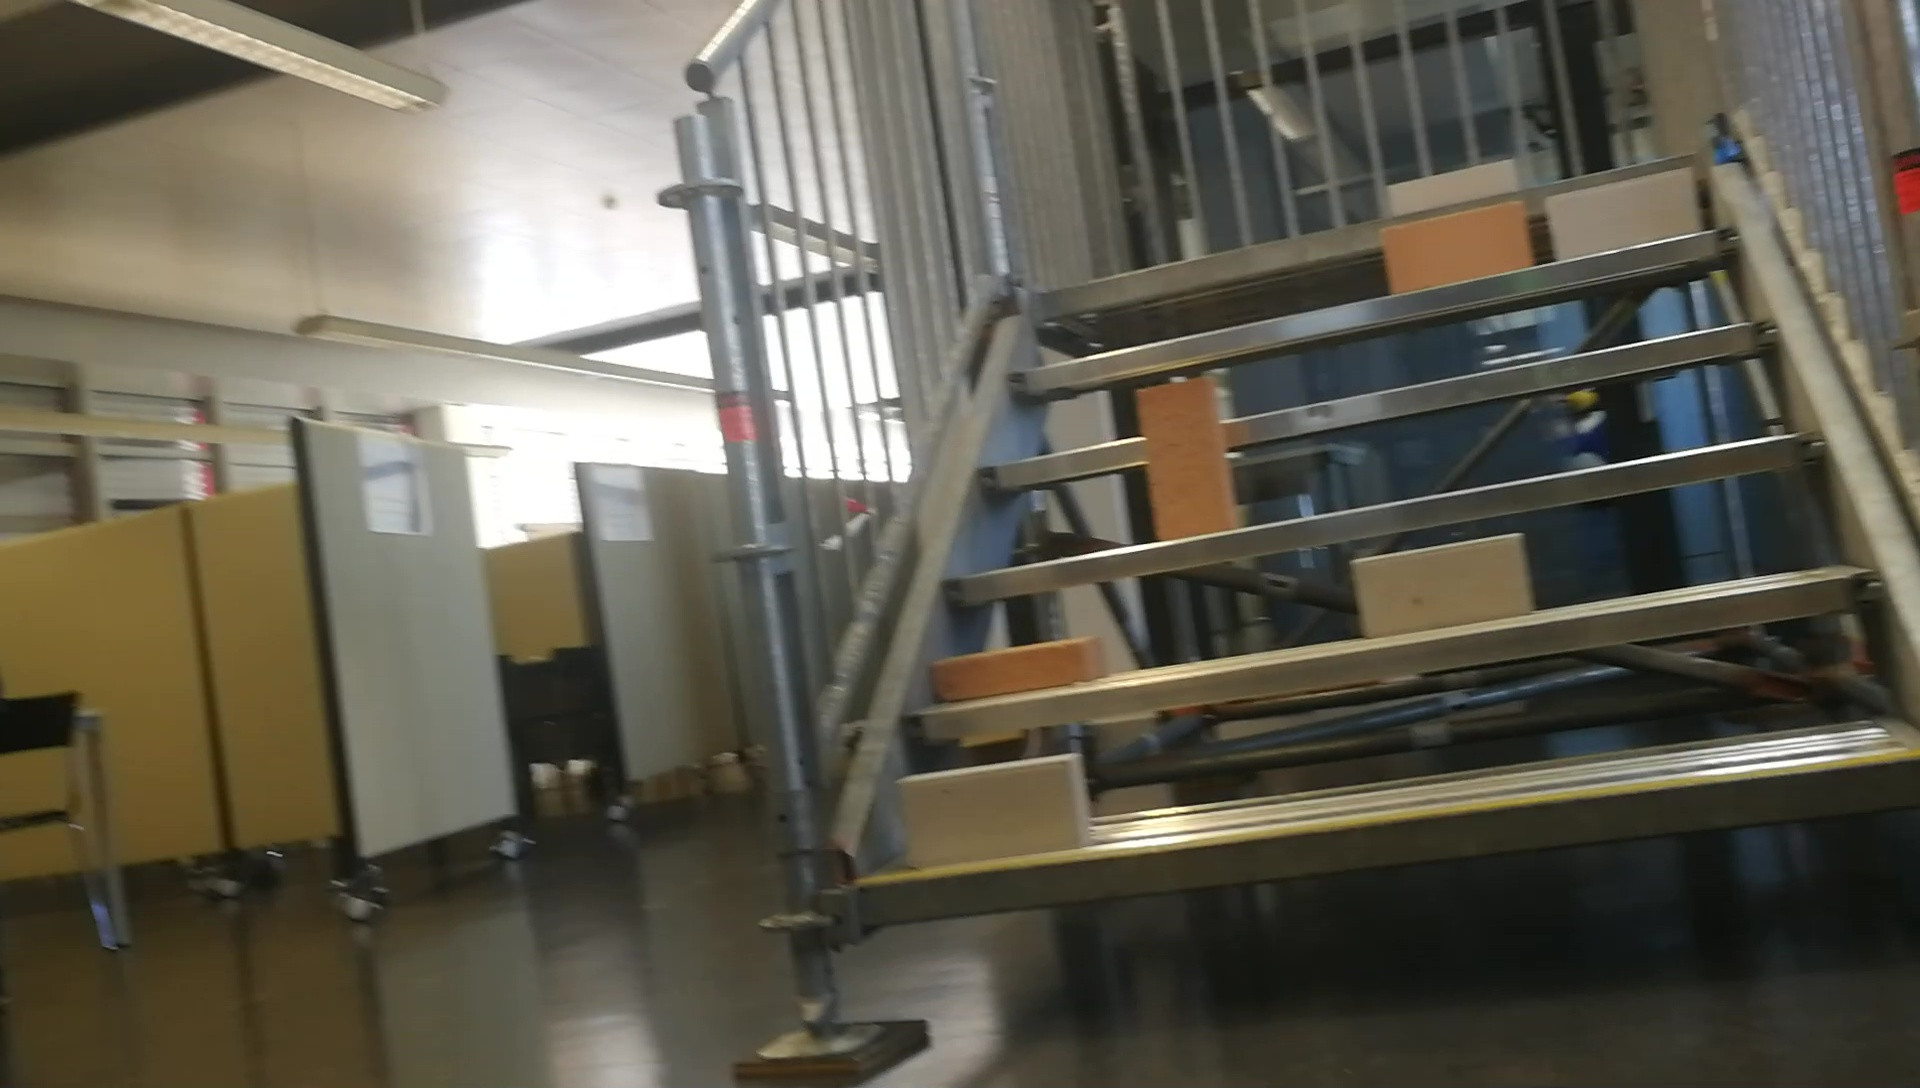brick: (893, 753, 1089, 874), (1353, 530, 1528, 634), (1139, 378, 1232, 541), (1548, 167, 1697, 262), (1381, 203, 1528, 293), (930, 636, 1098, 695), (1387, 162, 1516, 206)
edge: (865, 753, 1912, 921), (901, 567, 1873, 742), (942, 433, 1822, 601), (976, 323, 1774, 491), (1007, 226, 1727, 394)
stairs: (653, 3, 1920, 1073)
steps: (832, 140, 1915, 940)
